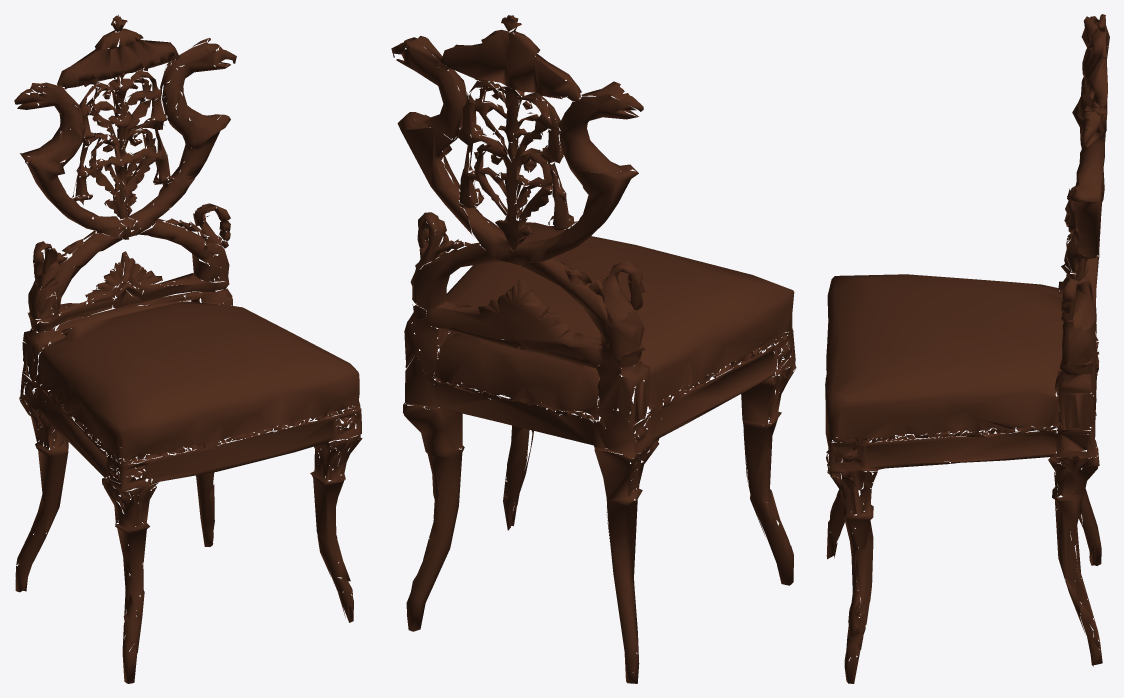
Rendered from lyte-chairs.glb.
The picture shows the model from 3 angles, left to right: view 1: azimuth 30°, elevation 25°; view 2: azimuth 150°, elevation 25°; view 3: azimuth 270°, elevation 25°; orthographic projection. The views are drawn at different scales.
Visible parts, largest first — view 1: lyte-chairs; view 2: lyte-chairs; view 3: lyte-chairs.
Boxes of the visible parts, x1=… form: lyte-chairs: x1=14, y1=14, x2=362, y2=683; lyte-chairs: x1=391, y1=15, x2=796, y2=683; lyte-chairs: x1=825, y1=14, x2=1109, y2=683.
Size of the model in its own units: 0.441 by 0.9493 by 0.4036.
